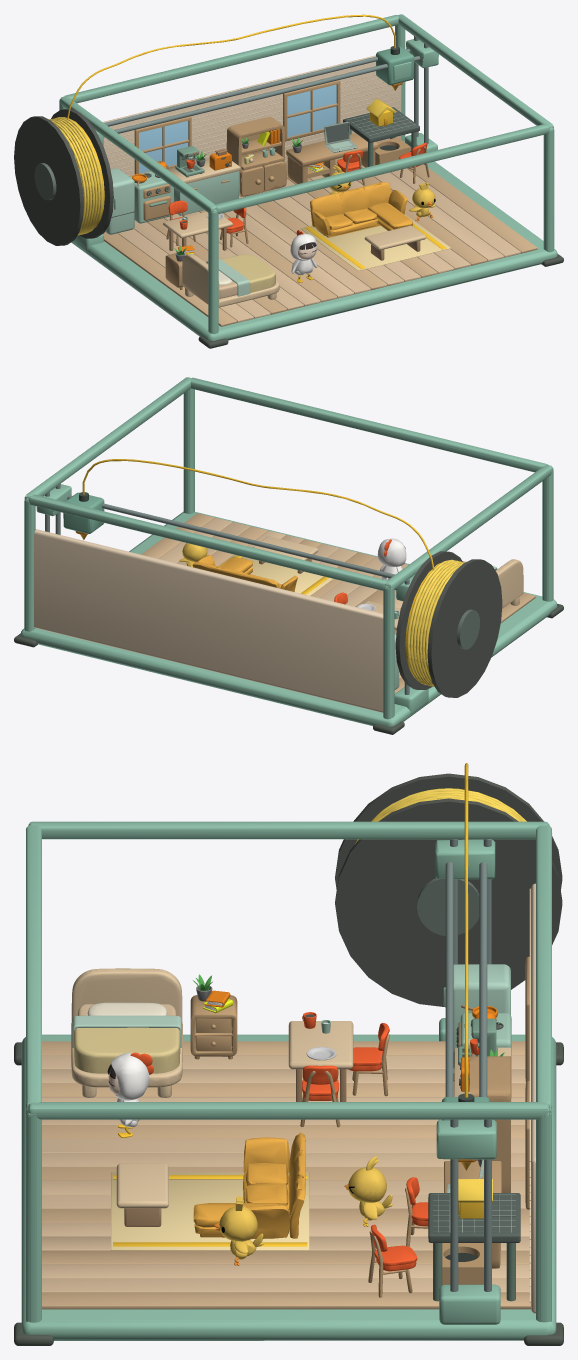
Rendered from chikipiyo-dollhouse.glb.
3 views of the same model, one above another, from view 1: azimuth 30°, elevation 25°; view 2: azimuth 150°, elevation 25°; view 3: azimuth 270°, elevation 25° (orthographic). The views are drawn at different scales.
Visible parts, largest first — view 1: Room, Plane006, Linear_rod_X, Hotend, Plane086, Plane090, Plane073_1, desk_part_09, fridge_part_01, Cube018, Plane005_1, vr_part_01 (+14 smaller); view 2: Room, Linear_rod_X, Hotend, Plane006, Plane073_1, vr_part_01, chicken_chicken_main001_0_1; view 3: Room, Linear_rod_X, Plane006, Plane073_1, Linear_rod_Z, desk_part_09, Plane005_1, vr_part_01, table_part_01, Circle002, Plane086, fridge_part_01 (+13 smaller).
Part boxes in pixels (<box>): Room: <box>14,14,563,348</box>; Plane006: <box>310,182,412,237</box>; Linear_rod_X: <box>95,39,438,145</box>; Hotend: <box>67,14,414,118</box>; Plane086: <box>226,116,284,196</box>; Plane090: <box>286,133,378,183</box>; Plane073_1: <box>182,253,279,307</box>; desk_part_09: <box>343,107,419,166</box>; fridge_part_01: <box>105,168,134,234</box>; Cube018: <box>174,171,238,215</box>; Plane005_1: <box>221,254,275,292</box>; vr_part_01: <box>364,225,426,260</box>; Room: <box>14,377,563,734</box>; Linear_rod_X: <box>36,484,415,601</box>; Hotend: <box>63,459,434,570</box>; Plane006: <box>192,555,297,591</box>; Plane073_1: <box>496,559,523,608</box>; vr_part_01: <box>253,536,318,573</box>; chicken_chicken_main001_0_1: <box>377,538,406,566</box>; Room: <box>14,773,563,1345</box>; Linear_rod_X: <box>435,839,496,1159</box>; Plane006: <box>193,1132,305,1239</box>; Plane073_1: <box>71,968,182,1097</box>; Linear_rod_Z: <box>439,1119,500,1324</box>; desk_part_09: <box>428,1193,520,1301</box>; Plane005_1: <box>74,1027,180,1073</box>; vr_part_01: <box>116,1163,168,1226</box>; table_part_01: <box>288,1021,353,1101</box>; Circle002: <box>190,995,237,1059</box>; Plane086: <box>469,1056,510,1192</box>; fridge_part_01: <box>453,964,510,1068</box>.
Bounding box in the file's own units: 0.4 × 0.1794 × 0.2823.
